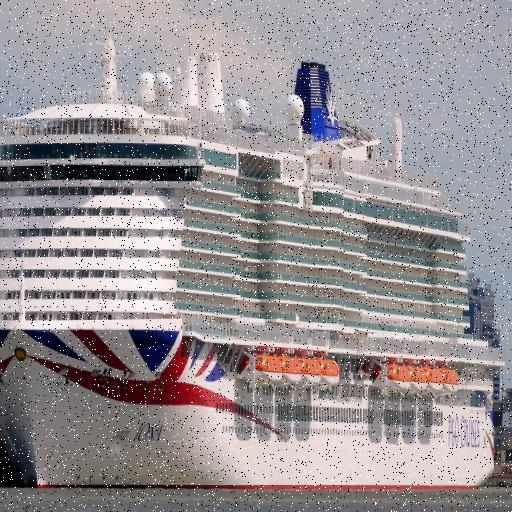cruises: (1, 20, 509, 501)
